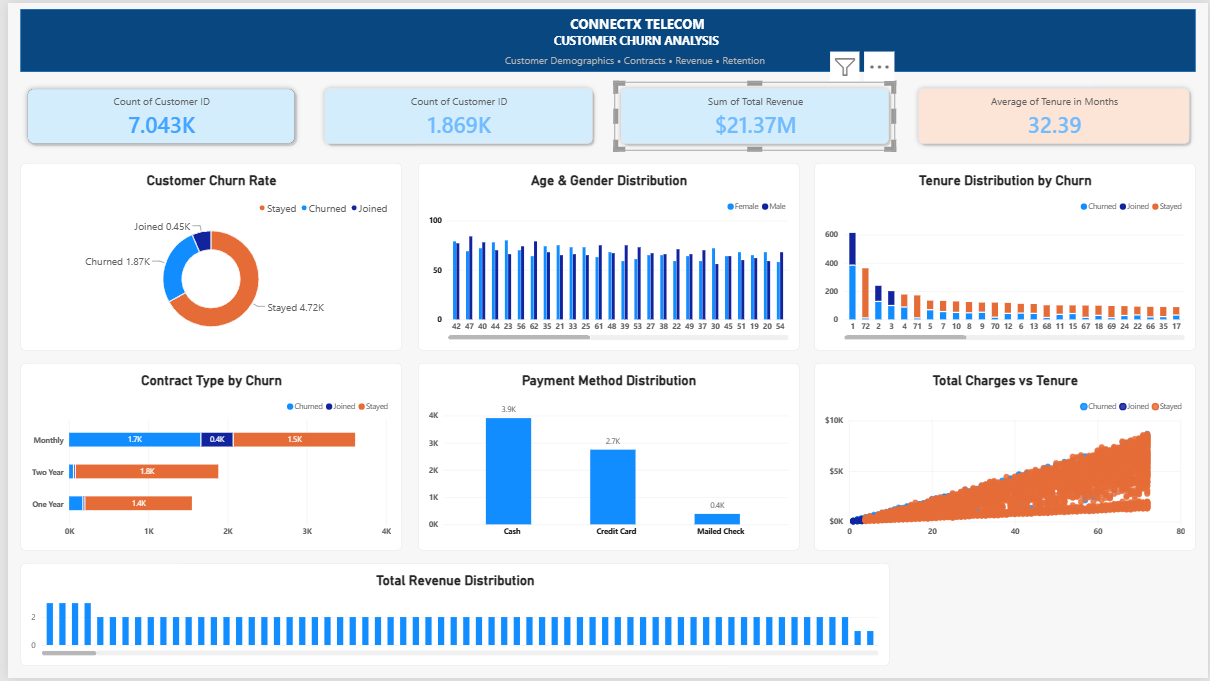

This screenshot's page, from the dashboard's own definition file:
{"tool":"powerbi","page":{"name":"Page 1","canvas":[1920,1080],"ordinal":0},"visuals":[{"type":"donutChart","title":"Customer Churn Rate","fields":{"Category":["Details.Customer Status"],"Y":["CountNonNull(Details.Customer ID)"]},"box":[20,255,610,300],"z":0},{"type":"clusteredColumnChart","title":"Age & Gender Distribution","fields":{"Category":["Details.Age"],"Y":["CountNonNull(Details.Customer ID)"],"Series":["Details.Gender"]},"box":[655,255,610,300],"z":1000},{"type":"columnChart","title":"Tenure Distribution by Churn","fields":{"Category":["Details.Tenure in Months"],"Y":["CountNonNull(Details.Customer ID)"],"Series":["Details.Customer Status"]},"box":[1290,255,610,300],"z":2000},{"type":"barChart","title":"Contract Type by Churn","fields":{"Y":["CountNonNull(Details.Customer ID)"],"Series":["Details.Customer Status"],"Category":["Details.Contract"]},"box":[20,575,610,300],"z":3000},{"type":"columnChart","title":"Payment Method Distribution","fields":{"Category":["Details.Payment Method"],"Y":["CountNonNull(Details.Customer ID)"]},"box":[655,575,610,300],"z":4000},{"type":"scatterChart","title":"Total Charges vs Tenure","fields":{"X":["Sum(Details.Tenure in Months)"],"Y":["Sum(Details.Total Charges)"],"Category":["Details.Customer ID"],"Series":["Details.Customer Status"]},"box":[1290,575,610,300],"z":5000},{"type":"clusteredColumnChart","title":"Total Revenue Distribution","fields":{"Category":["Details.Total Revenue"],"Y":["CountNonNull(Details.Customer ID)"]},"box":[20,895,1390,165],"z":6000},{"type":"cardVisual","fields":{"Data":["CountNonNull(Details.Customer ID)"]},"box":[20,125,450,110],"z":7000},{"type":"cardVisual","fields":{"Data":["CountNonNull(Details.Customer ID)"]},"box":[495,125,450,110],"z":8000},{"type":"cardVisual","fields":{"Data":["Sum(Details.Total Revenue)"]},"box":[970,125,450,110],"z":9000},{"type":"cardVisual","fields":{"Data":["Avg(Details.Tenure in Months)"]},"box":[1445,125,455,110],"z":10000},{"type":"shape","box":[20,10,1880,100],"z":11000},{"type":"textbox","box":[750,18.3,490,60],"z":12000},{"type":"textbox","box":[758,80,490,53.3],"z":13000}]}

Visuals, with their boxes in screenshot pixels (x1, y1, x2, y2), scaled from the page's 1920x1080 canvas onto the 1210x681 screenshot:
"Customer Churn Rate" donutChart: x1=13, y1=161, x2=397, y2=350
"Age & Gender Distribution" clusteredColumnChart: x1=413, y1=161, x2=797, y2=350
"Tenure Distribution by Churn" columnChart: x1=813, y1=161, x2=1197, y2=350
"Contract Type by Churn" barChart: x1=13, y1=363, x2=397, y2=552
"Payment Method Distribution" columnChart: x1=413, y1=363, x2=797, y2=552
"Total Charges vs Tenure" scatterChart: x1=813, y1=363, x2=1197, y2=552
"Total Revenue Distribution" clusteredColumnChart: x1=13, y1=564, x2=889, y2=668
cardVisual - CountNonNull(Details.Customer ID): x1=13, y1=79, x2=296, y2=148
cardVisual - CountNonNull(Details.Customer ID): x1=312, y1=79, x2=596, y2=148
cardVisual - Sum(Details.Total Revenue): x1=611, y1=79, x2=895, y2=148
cardVisual - Avg(Details.Tenure in Months): x1=911, y1=79, x2=1197, y2=148
shape: x1=13, y1=6, x2=1197, y2=69
textbox: x1=473, y1=12, x2=781, y2=49
textbox: x1=478, y1=50, x2=786, y2=84
